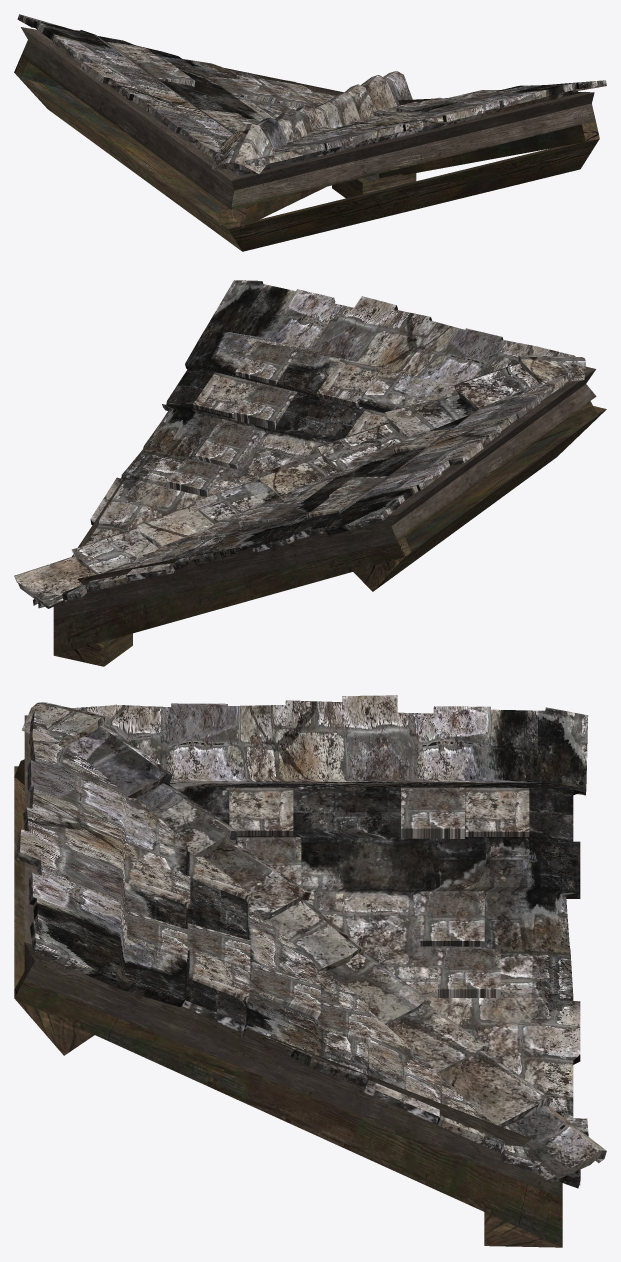
The picture shows the model from 3 angles, top to bottom: view 1: azimuth 30°, elevation 25°; view 2: azimuth 150°, elevation 25°; view 3: azimuth 270°, elevation 25°; orthographic projection. The views are drawn at different scales.
Visible parts, largest first — view 1: SM_T3_Roof_Large_Valley_Shallow_LOD0; view 2: SM_T3_Roof_Large_Valley_Shallow_LOD0; view 3: SM_T3_Roof_Large_Valley_Shallow_LOD0.
Boxes of the visible parts, left/top/right/bottom form: SM_T3_Roof_Large_Valley_Shallow_LOD0: left=14, top=14, right=606, bottom=251; SM_T3_Roof_Large_Valley_Shallow_LOD0: left=14, top=280, right=606, bottom=666; SM_T3_Roof_Large_Valley_Shallow_LOD0: left=14, top=695, right=606, bottom=1247.
Bounding box in the file's own units: 3.4 × 2.11 × 3.4.
3 materials, 3 textured.
